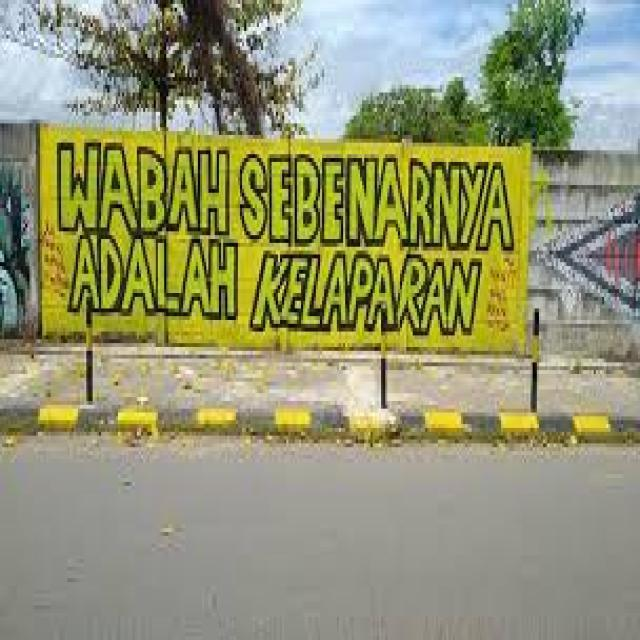-: (56, 138, 513, 334), (547, 191, 640, 317), (2, 169, 33, 328)
